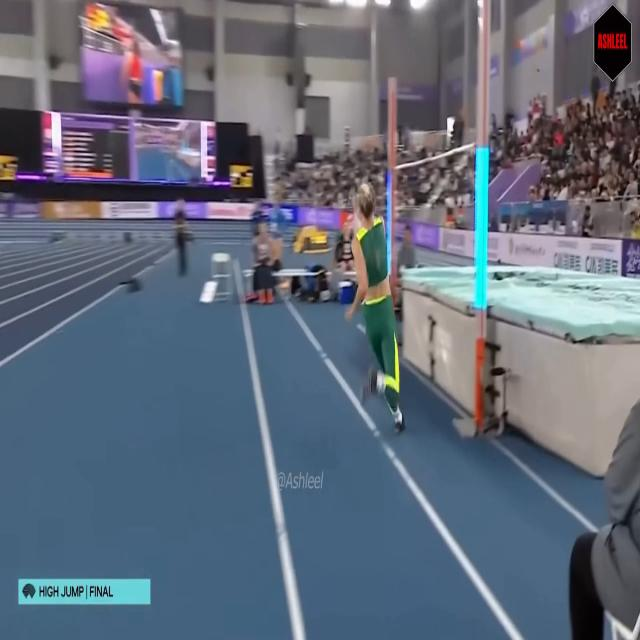jump: (343, 179, 409, 432)
